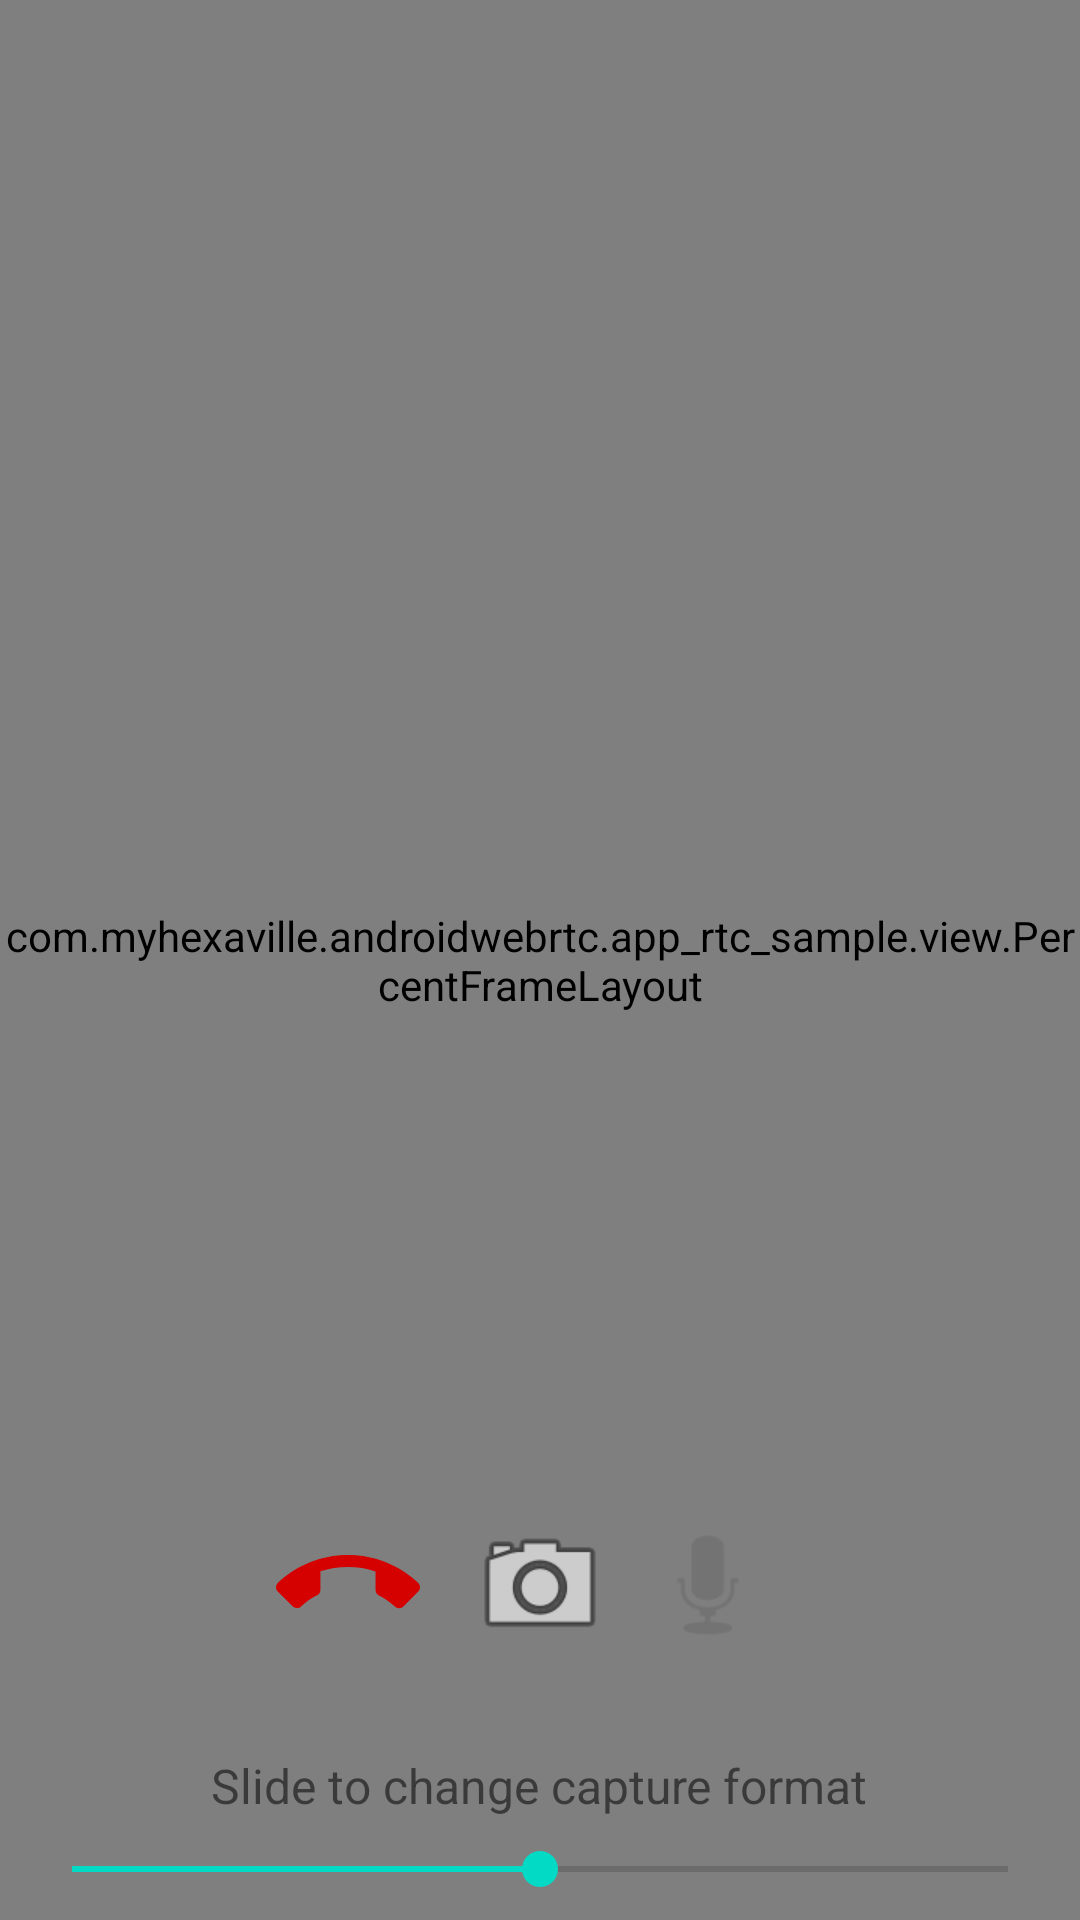

Locate icon controls on the screen. Image size 1080px x 1920px, boxes as (x1, y1, x2, y2).
Disconnect Call: (276, 1555, 420, 1608)
